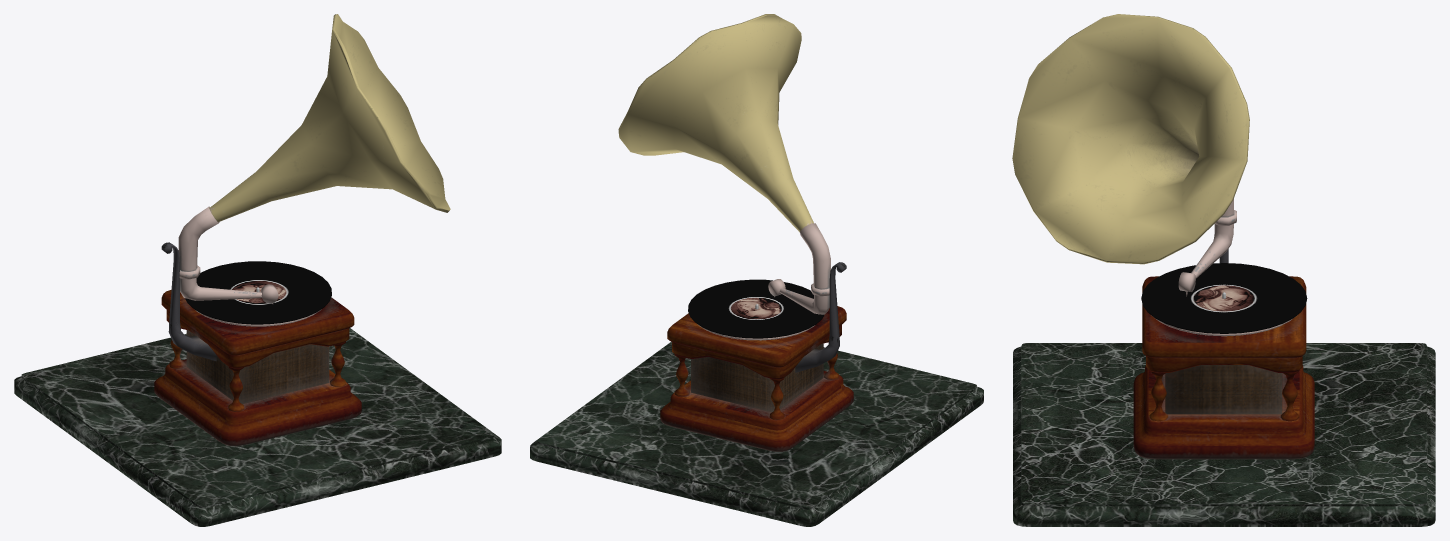
Rendered from gramophone.glb.
3 renders of one model, left to right at view 1: azimuth 30°, elevation 25°; view 2: azimuth 150°, elevation 25°; view 3: azimuth 270°, elevation 25°, orthographic. The views are drawn at different scales.
Parts seen in each view (by area): view 1: Object_2, Object_3; view 2: Object_2, Object_3; view 3: Object_2, Object_3.
Part boxes in pixels (left/top/right/bottom): Object_2: left=154, top=14, right=450, bottom=446; Object_3: left=14, top=328, right=501, bottom=526; Object_2: left=618, top=14, right=853, bottom=451; Object_3: left=530, top=341, right=983, bottom=526; Object_2: left=1012, top=14, right=1314, bottom=459; Object_3: left=1013, top=343, right=1435, bottom=526.
Bounding box in the file's own units: 84.69 × 106 × 90.14.
2 materials, 2 textured.
